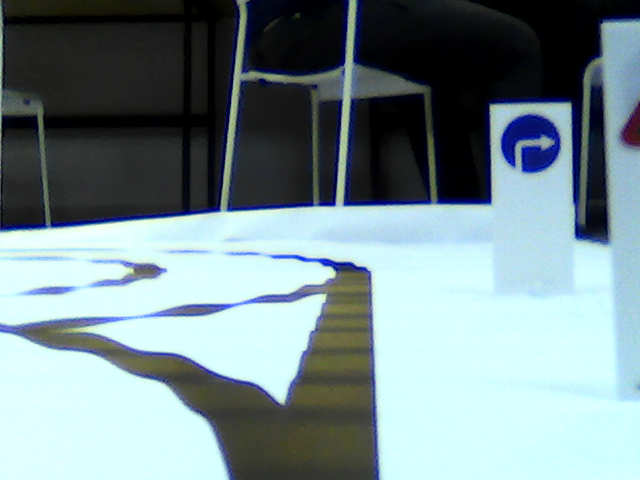Right: (500, 113, 564, 174)
